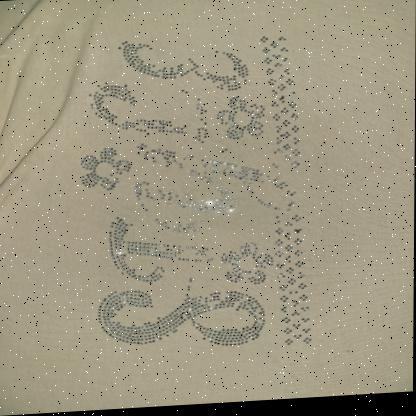spot: (321, 140, 333, 153)
